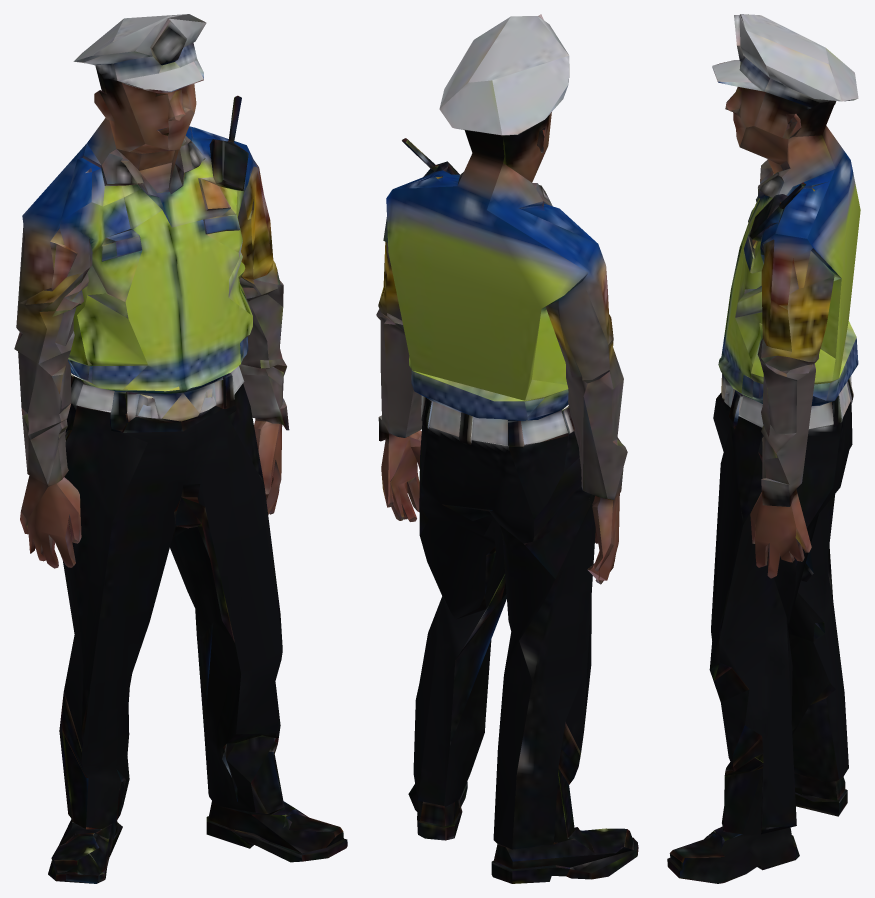
File: lantas_idle_lod2.glb
The picture shows the model from 3 angles, left to right: view 1: azimuth 30°, elevation 25°; view 2: azimuth 150°, elevation 25°; view 3: azimuth 270°, elevation 25°; orthographic projection. The views are drawn at different scales.
Parts seen in each view (by area): view 1: tripo_node_bccebdc1; view 2: tripo_node_bccebdc1; view 3: tripo_node_bccebdc1.
Part boxes in pixels (x1,y1,x2,y2): tripo_node_bccebdc1: (14, 14, 347, 883); tripo_node_bccebdc1: (376, 14, 638, 883); tripo_node_bccebdc1: (667, 14, 860, 883).
Bounding box in the file's own units: 32.31 × 99.54 × 21.64.
1 material, 1 textured.
